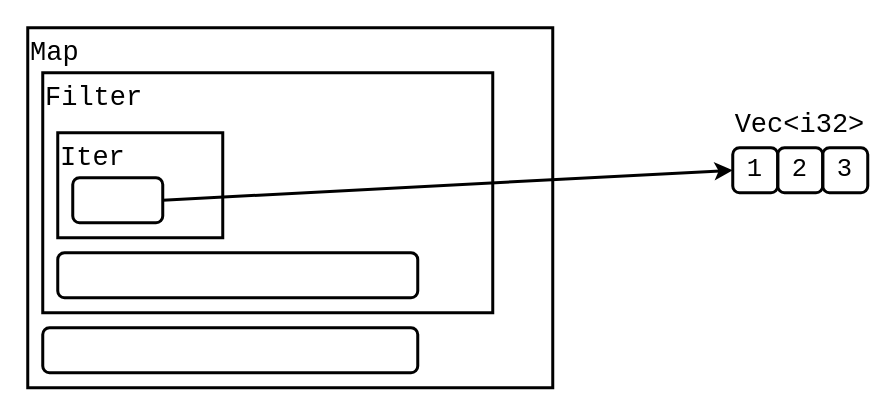
Image size: 894x414. Some labels were removed from this diagram. The shapes that lost their labels are listed below. From the top down, each one's centre as x and y in pixels, then its label:
(117,200): ref
(237,274): predicate: (i32)->bool
(229,350): transformer: (i32)->i32
